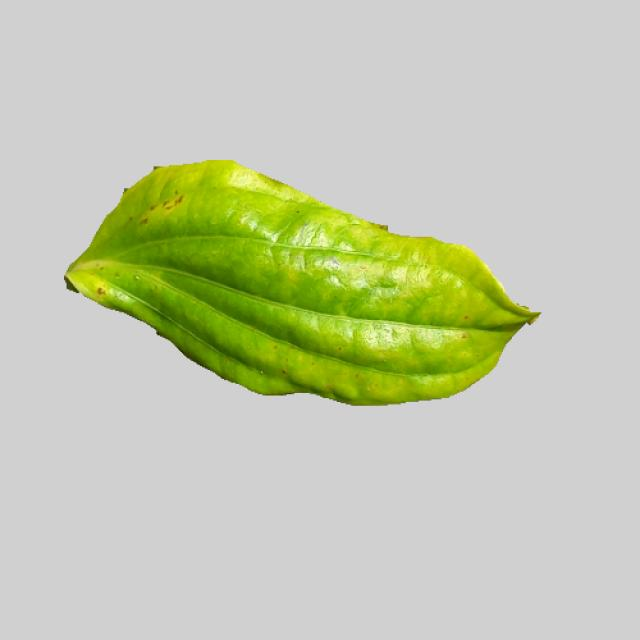yellow-mottle-virus: (59, 157, 537, 407)
